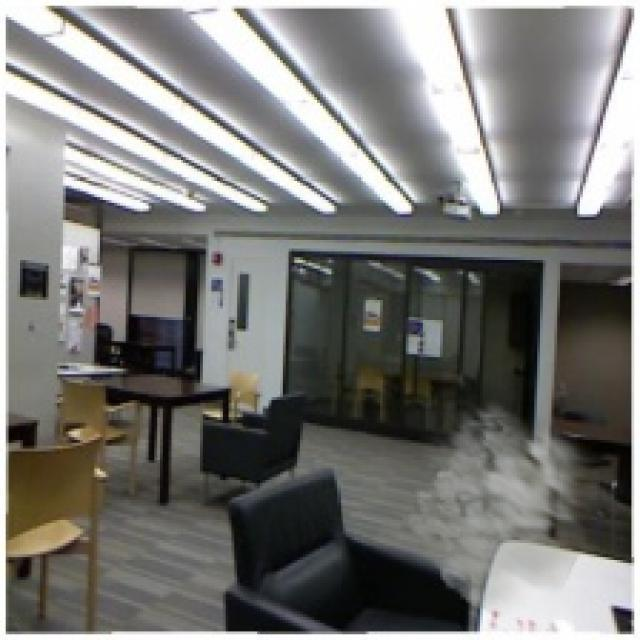Smoke: (400, 391, 620, 623)
